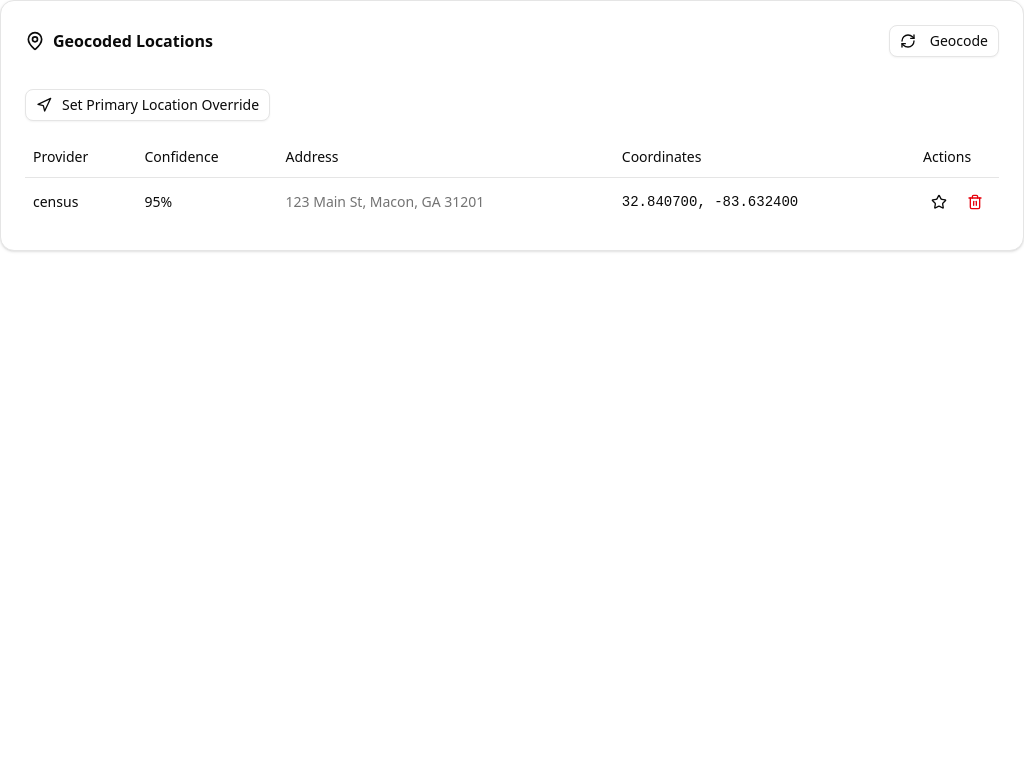
Scenario: GeocodedLocationsCard › remove action › shows confirmation dialog on remove click
This screenshot has width=1024, height=768.
Click the button titled "Remove": click(975, 202) [959,186,991,218]
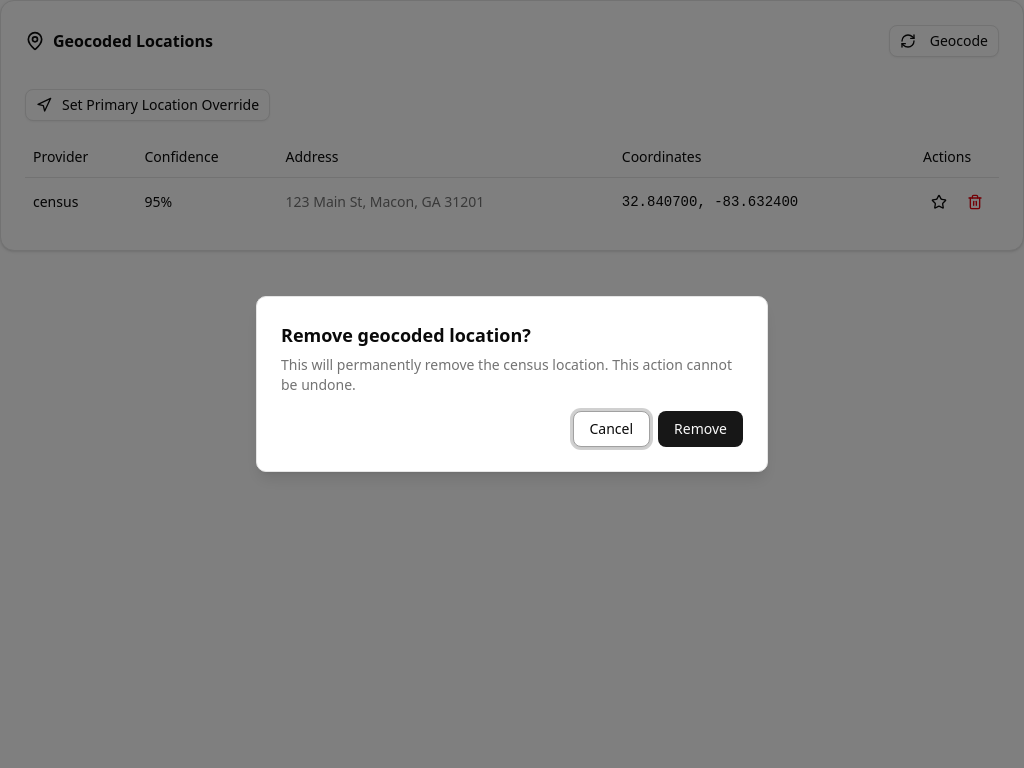
Now the heading "Remove geocoded location?" is shown, box [281,321,531,349]
